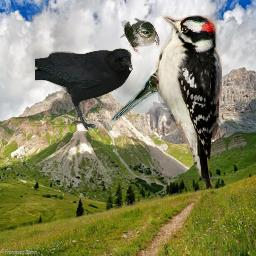Crow: (35, 48, 133, 130)
Cuckoo: (110, 53, 193, 124)
Swallow: (119, 18, 160, 55)
Woodpecker: (153, 15, 222, 190)
